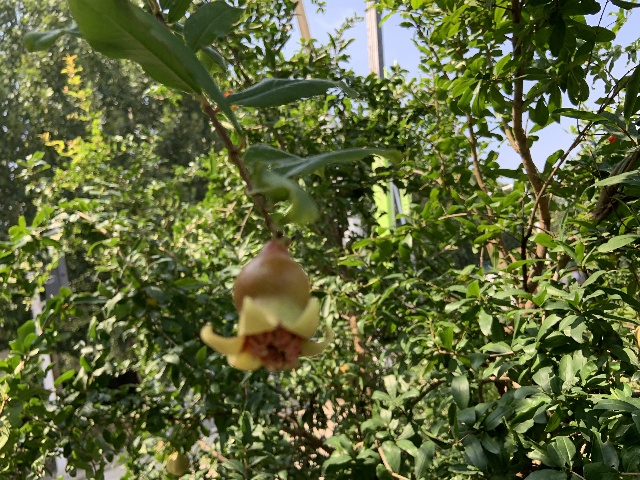early-fruit: (199, 241, 331, 370)
